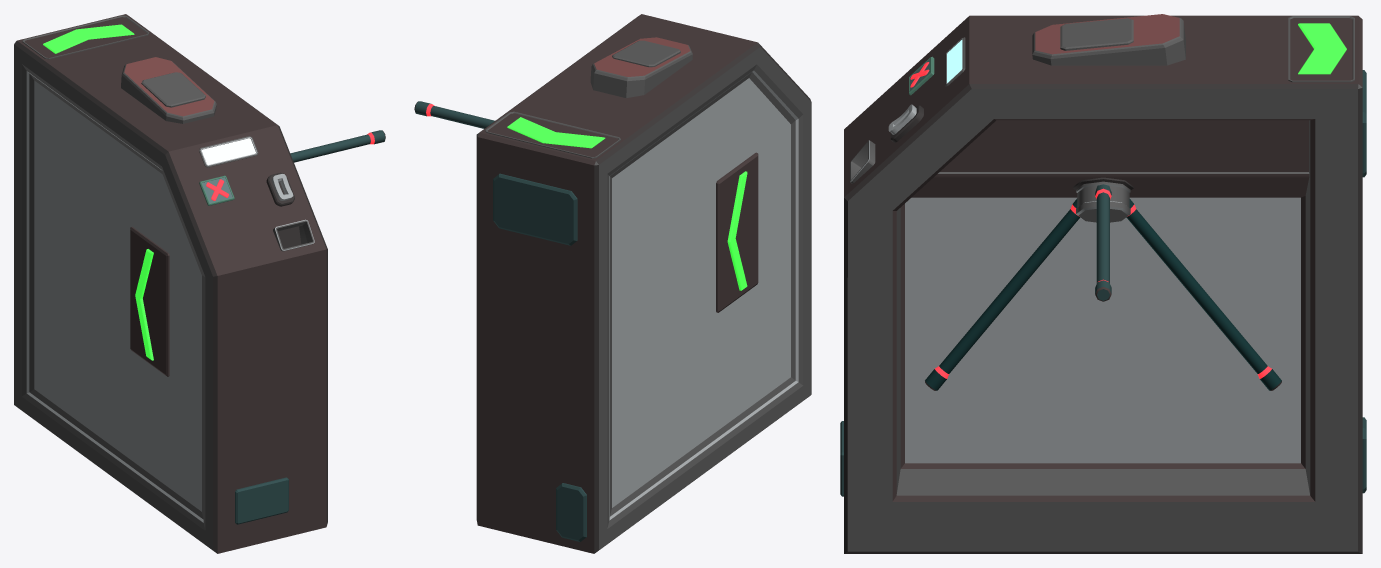
File: torniquete.fbx
3 renders of one model, left to right at view 1: azimuth 30°, elevation 25°; view 2: azimuth 150°, elevation 25°; view 3: azimuth 270°, elevation 25°, orthographic. The views are drawn at different scales.
Parts seen in each view (by area): view 1: Cube.317, Cube.316, Cube.315, Cube.307, Cube.308, Cube.310, Cube.304, Cube.309, Cylinder.124, Cube.303, Cube.311, Cube.313; view 2: Cube.317, Cube.316, Cube.306, Cube.315, Cube.308, Cube.302, Cube.309, Cube.310, Cube.311, Cylinder.124; view 3: Cube.317, Cube.312, Cube.315, Cylinder.121, Cylinder.122, Cube.308, Cube.310, Cube.309, Cylinder.124, Cylinder.123, Cube.304, Cube.303.
Boxes of the visible parts, bbox=[...] form: Cube.317: bbox=[14, 14, 327, 553]; Cube.316: bbox=[130, 226, 169, 376]; Cube.315: bbox=[121, 57, 216, 123]; Cube.307: bbox=[235, 477, 288, 524]; Cube.308: bbox=[22, 15, 149, 59]; Cube.310: bbox=[141, 72, 205, 107]; Cube.304: bbox=[199, 136, 258, 167]; Cube.309: bbox=[43, 24, 134, 53]; Cylinder.124: bbox=[290, 130, 385, 162]; Cube.303: bbox=[273, 219, 314, 251]; Cube.311: bbox=[135, 249, 153, 360]; Cube.313: bbox=[199, 175, 234, 205]; Cube.317: bbox=[476, 14, 811, 553]; Cube.316: bbox=[716, 152, 758, 312]; Cube.306: bbox=[493, 173, 577, 245]; Cube.315: bbox=[590, 37, 692, 98]; Cube.308: bbox=[485, 111, 620, 158]; Cube.302: bbox=[556, 483, 586, 541]; Cube.309: bbox=[507, 117, 605, 148]; Cube.310: bbox=[612, 40, 680, 67]; Cube.311: bbox=[727, 171, 747, 290]; Cylinder.124: bbox=[414, 101, 494, 128]; Cube.317: bbox=[844, 15, 1362, 553]; Cube.312: bbox=[912, 120, 1309, 197]; Cube.315: bbox=[1032, 14, 1185, 65]; Cylinder.121: bbox=[1126, 199, 1281, 390]; Cylinder.122: bbox=[925, 198, 1079, 390]; Cube.308: bbox=[1288, 16, 1354, 82]; Cube.310: bbox=[1060, 18, 1133, 50]; Cube.309: bbox=[1298, 23, 1346, 74]; Cylinder.124: bbox=[1095, 184, 1111, 301]; Cylinder.123: bbox=[1076, 181, 1130, 222]; Cube.304: bbox=[945, 37, 965, 86]; Cube.303: bbox=[850, 140, 875, 183].
Bounding box in the file's own units: 155 × 210 × 203.
